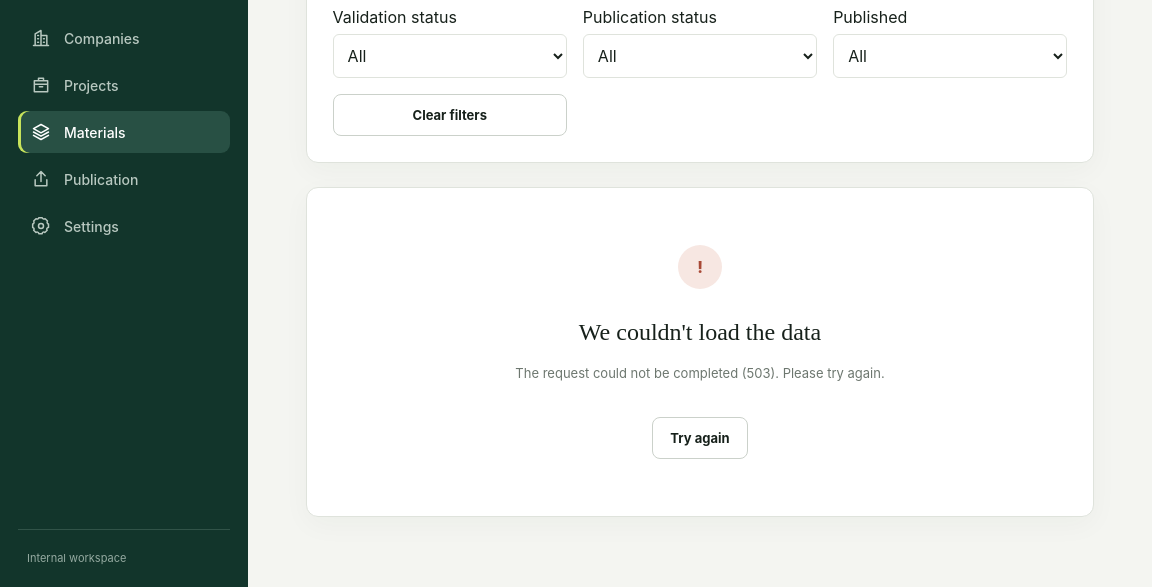
Test case: handles API/network list failure (offline=false) and retries
(page scrolled)
Expected: the heading "We couldn't load the data" is shown, x1=579 y1=319 x2=821 y2=346
Click the button "Try again".
click(700, 438)  # box x1=652 y1=417 x2=748 y2=459
(page scrolled)
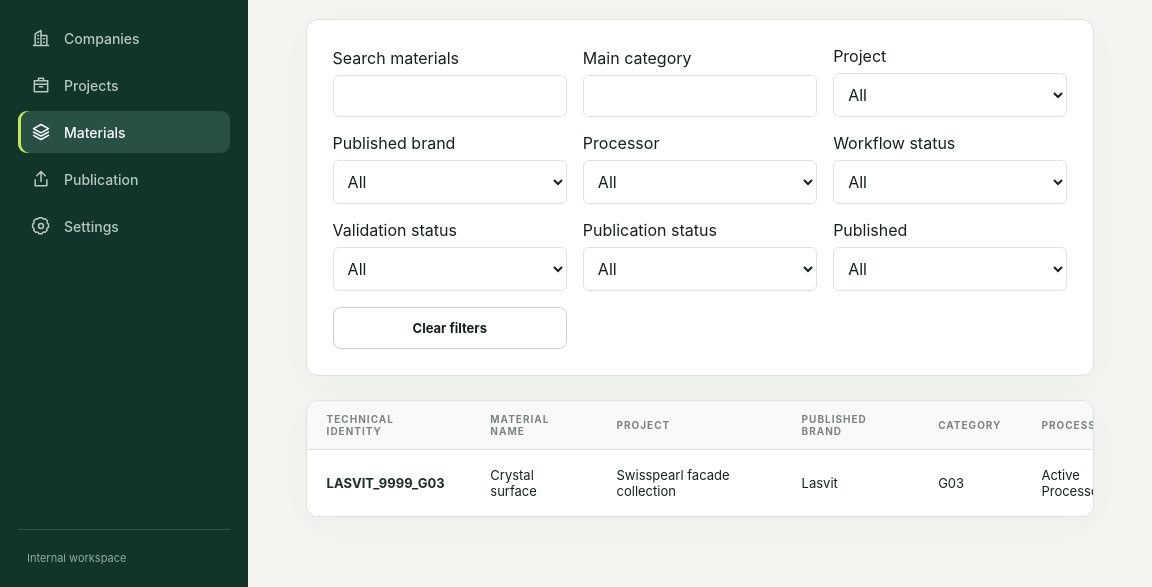
Expected: the link "LASVIT_9999_G03" is shown, x1=327 y1=475 x2=450 y2=491
